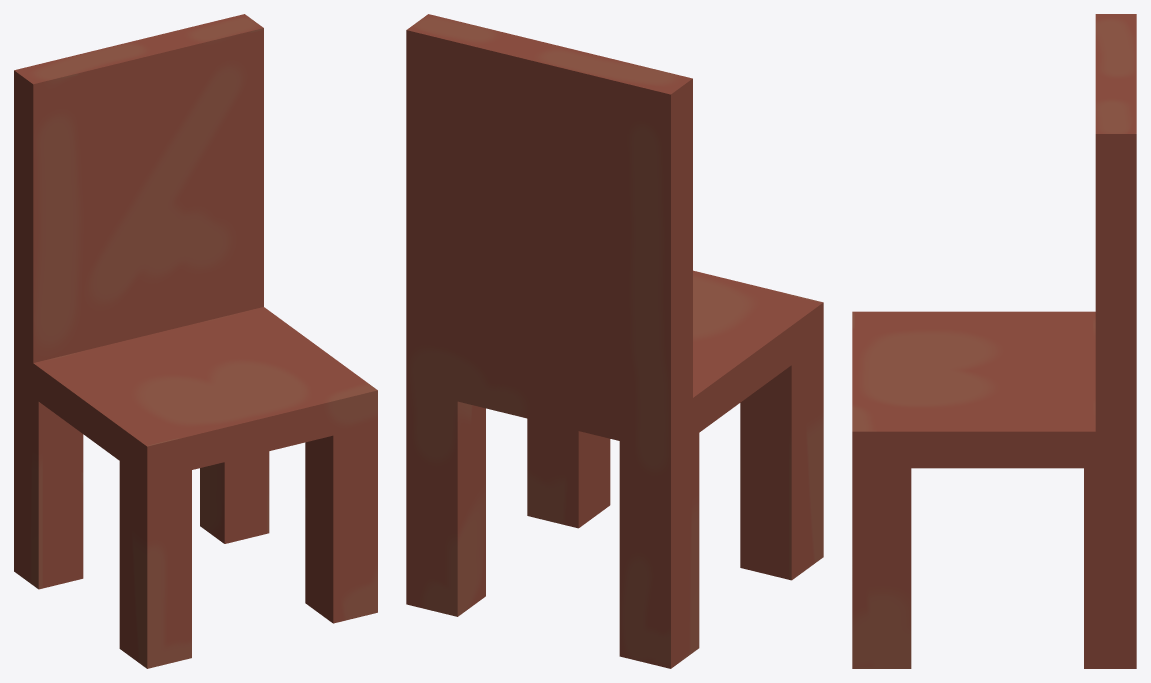
Rendered from chair.fbx.
3 renders of one model, left to right at view 1: azimuth 30°, elevation 25°; view 2: azimuth 150°, elevation 25°; view 3: azimuth 270°, elevation 25°, orthographic. The views are drawn at different scales.
Parts seen in each view (by area): view 1: Chair; view 2: Chair; view 3: Chair.
Boxes of the visible parts, box(x1,y1,x2,y2) form: Chair: box(14, 14, 377, 668); Chair: box(406, 14, 823, 668); Chair: box(852, 14, 1136, 668).
Size of the model in its own units: 200 by 415 by 200.
